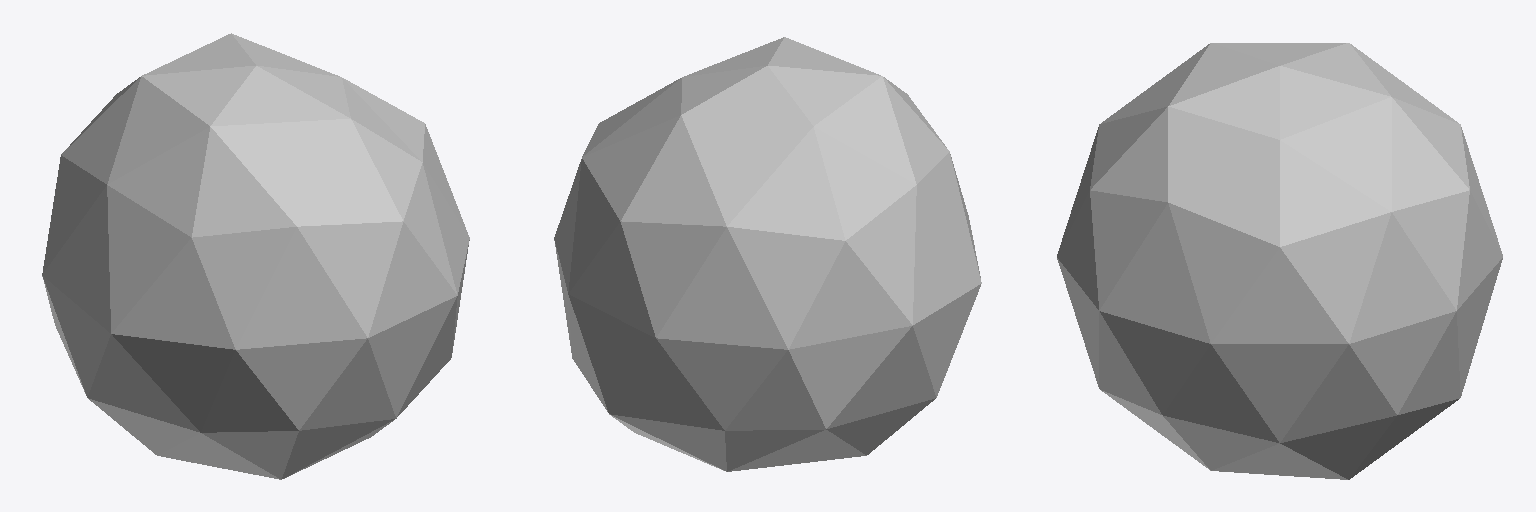
Rendered from meteor.obj.
3 renders of one model, left to right at view 1: azimuth 30°, elevation 25°; view 2: azimuth 150°, elevation 25°; view 3: azimuth 270°, elevation 25°, orthographic.
Visible parts, largest first — view 1: Icosphere; view 2: Icosphere; view 3: Icosphere.
Part boxes in pixels (bbox=[...]): Icosphere: bbox=[42, 33, 469, 479]; Icosphere: bbox=[554, 37, 981, 471]; Icosphere: bbox=[1057, 43, 1502, 479].
Size of the model in its own units: 2.34 by 2.37 by 2.52.